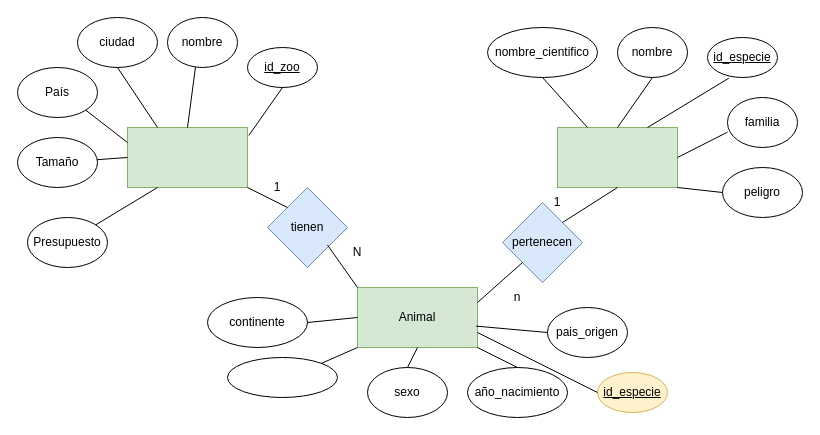
Some shapes in this 820 by 435 pixel diagram are drawn without their labels. Each missing label, with the centre of its shape:
"Especie" belongs at pixel 617 157.
"n_identificacion" belongs at pixel 282 377.
"Zoo" belongs at pixel 187 157.
